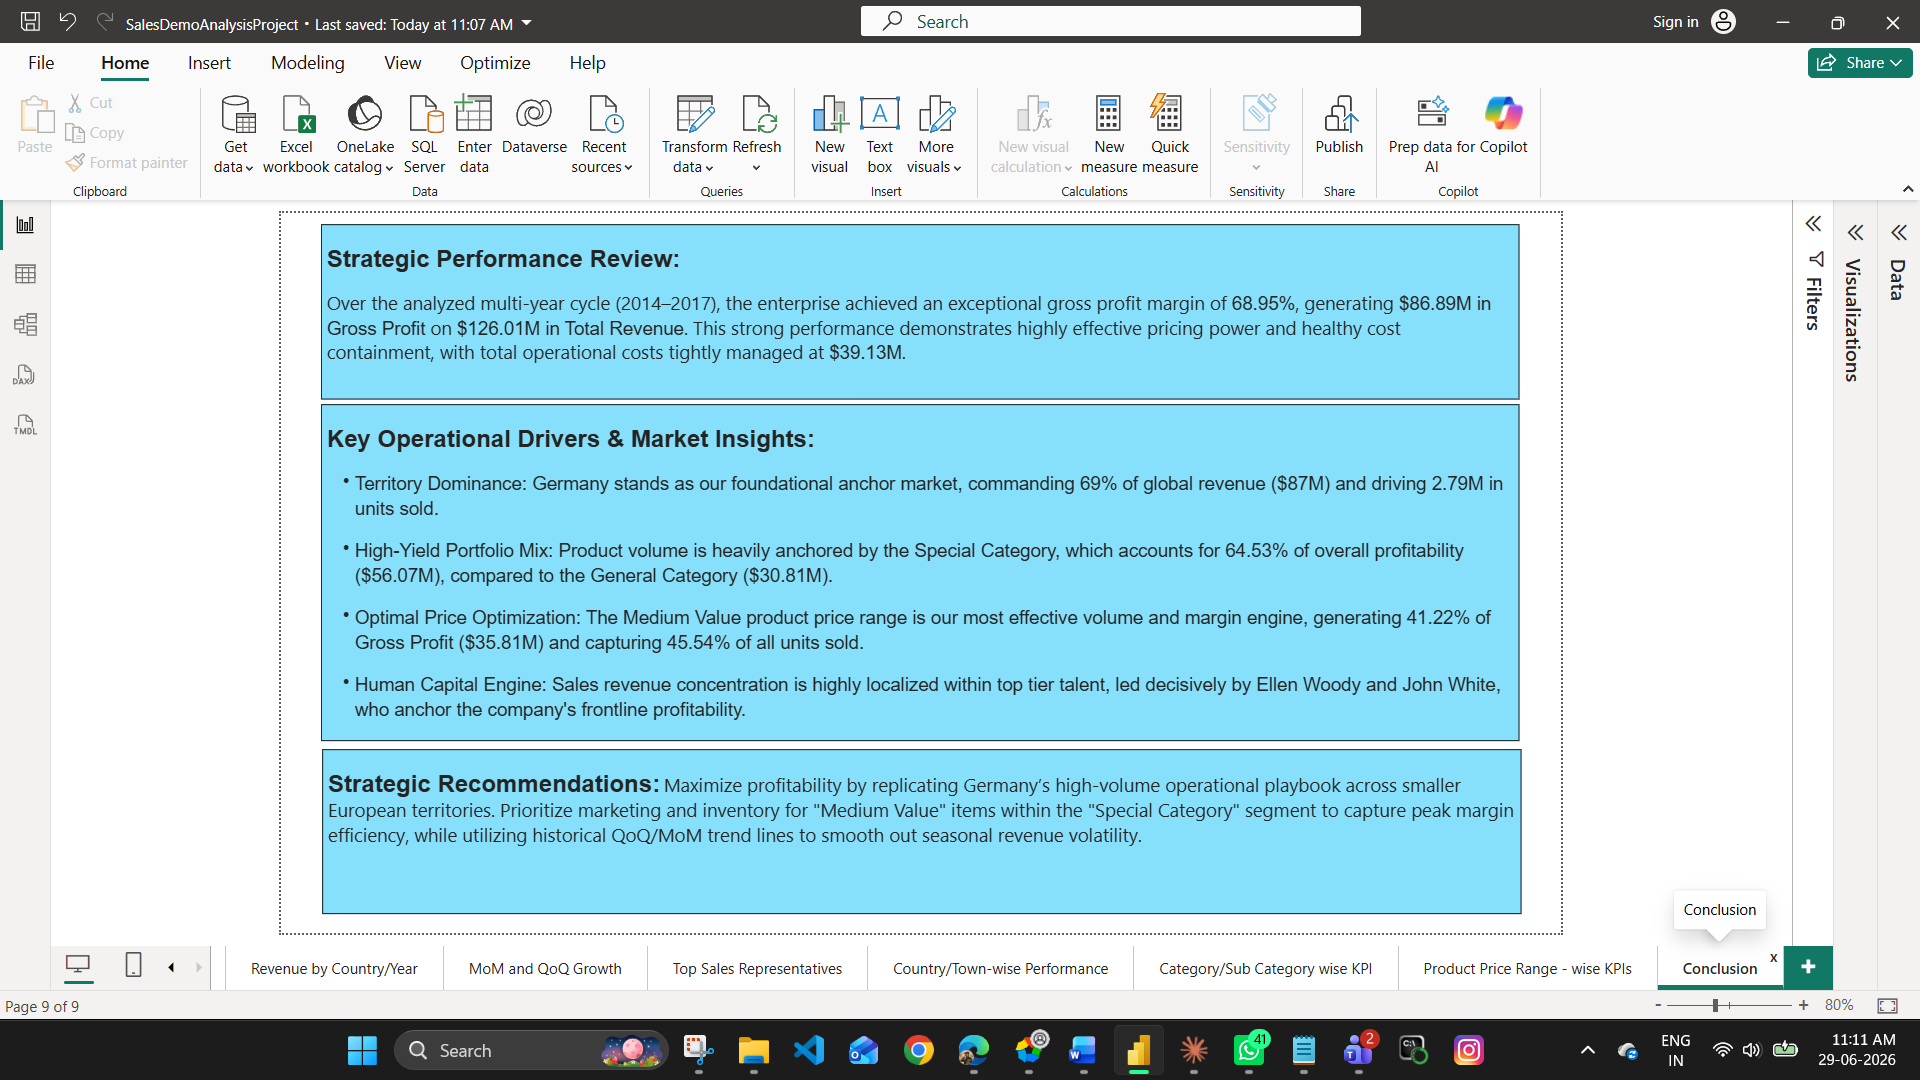

What the dashboard file says about the page in this screenshot:
{"tool":"powerbi","page":{"name":"Conclusion","canvas":[1280,720],"ordinal":8},"visuals":[{"type":"textbox","box":[40,11.7,1198.3,175],"z":0},{"type":"textbox","box":[40,191.7,1198.3,336.7],"z":1000},{"type":"textbox","box":[40,537.3,1199.1,165.5],"z":2000}]}

Visuals, with their boxes on the page's 1280x720 design canvas (x1, y1, x2, y2). These are canvas units, not pixel positions in the 1920x1080 screenshot, which may show the page scaled, cropped or inside an application window:
textbox: pyautogui.locateOnScreen(40, 12, 1238, 187)
textbox: pyautogui.locateOnScreen(40, 192, 1238, 528)
textbox: pyautogui.locateOnScreen(40, 537, 1239, 703)
